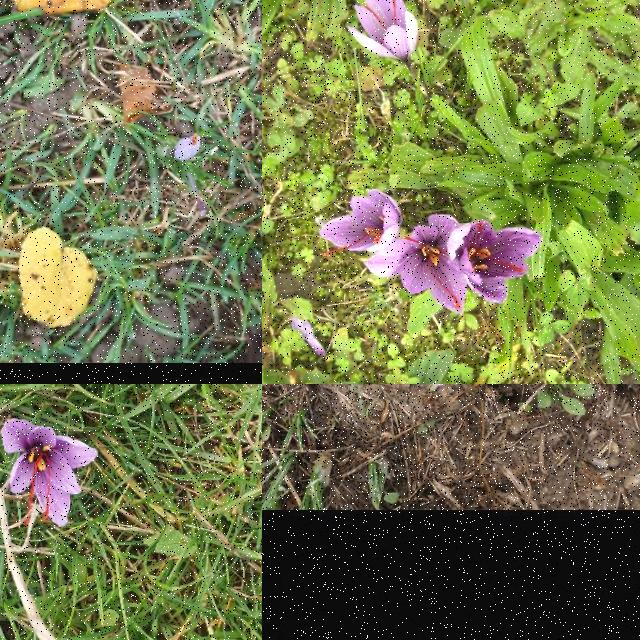flower: (0, 419, 98, 528), (365, 214, 467, 316), (447, 221, 543, 303), (320, 190, 402, 258), (348, 0, 418, 60), (174, 134, 202, 162)
